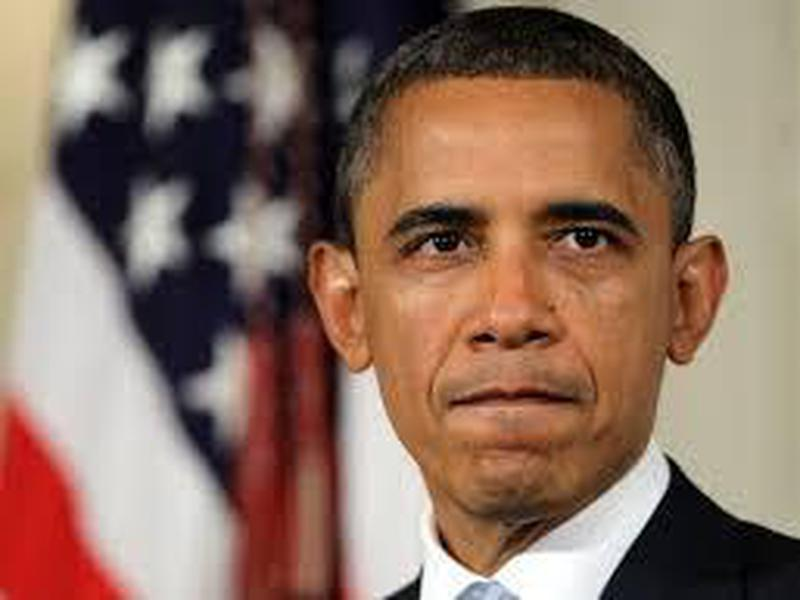without_mask: (355, 123, 674, 514)
